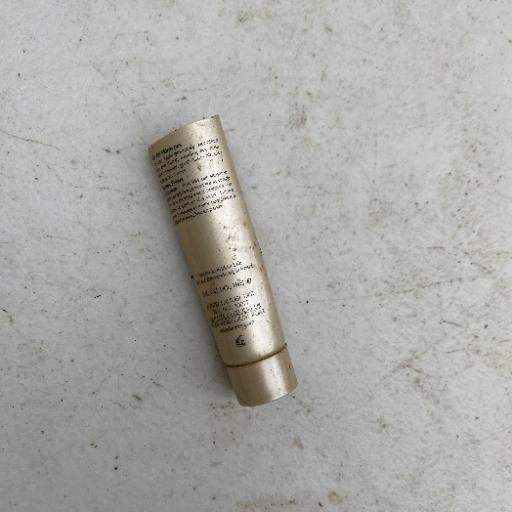Plastic: (146, 112, 300, 408)
